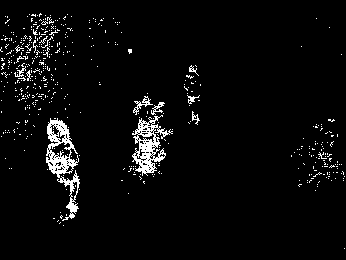person: (46, 119, 84, 213), (184, 61, 202, 126)
